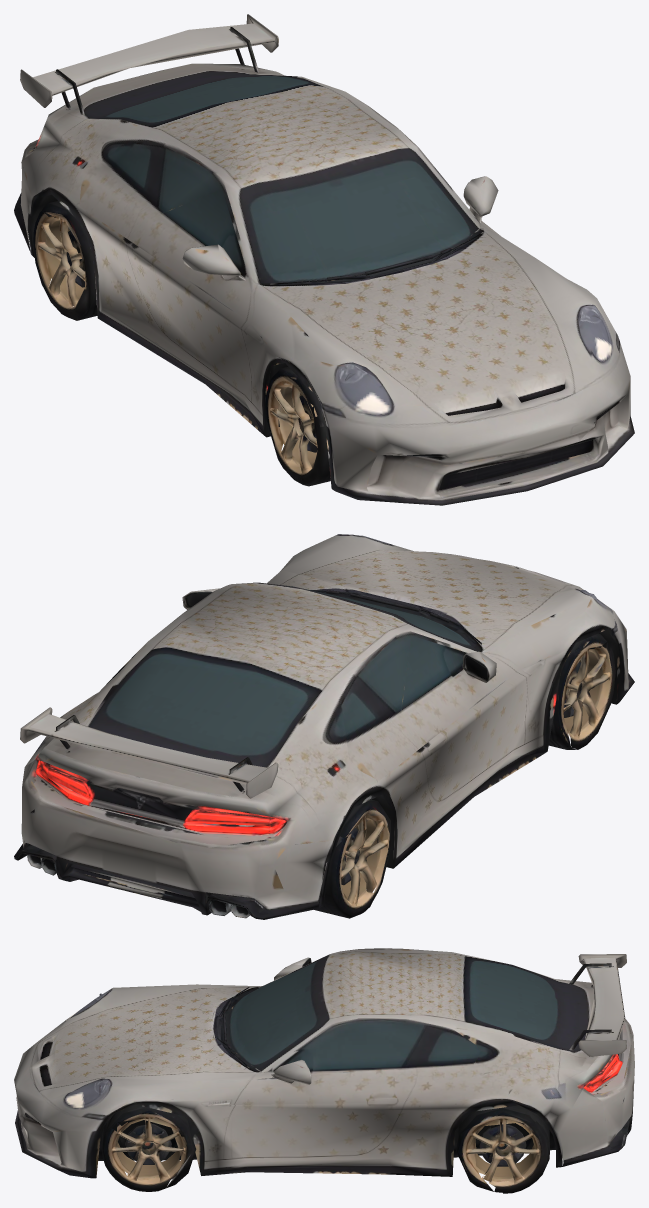
File: porsche.glb
3 renders of one model, top to bottom at view 1: azimuth 30°, elevation 25°; view 2: azimuth 150°, elevation 25°; view 3: azimuth 270°, elevation 25°, orthographic. The views are drawn at different scales.
Visible parts, largest first — view 1: tripo_3e0531ab_0140_4553_89f6_1a67891c3229; view 2: tripo_3e0531ab_0140_4553_89f6_1a67891c3229; view 3: tripo_3e0531ab_0140_4553_89f6_1a67891c3229.
Part boxes in pixels (x1=…): tripo_3e0531ab_0140_4553_89f6_1a67891c3229: x1=14, y1=14, x2=634, y2=505; tripo_3e0531ab_0140_4553_89f6_1a67891c3229: x1=14, y1=534, x2=634, y2=919; tripo_3e0531ab_0140_4553_89f6_1a67891c3229: x1=14, y1=948, x2=634, y2=1193.
Size of the model in its own units: 0.4463 by 0.2828 by 0.9966.
Materials: 5 (5 with a texture image).
